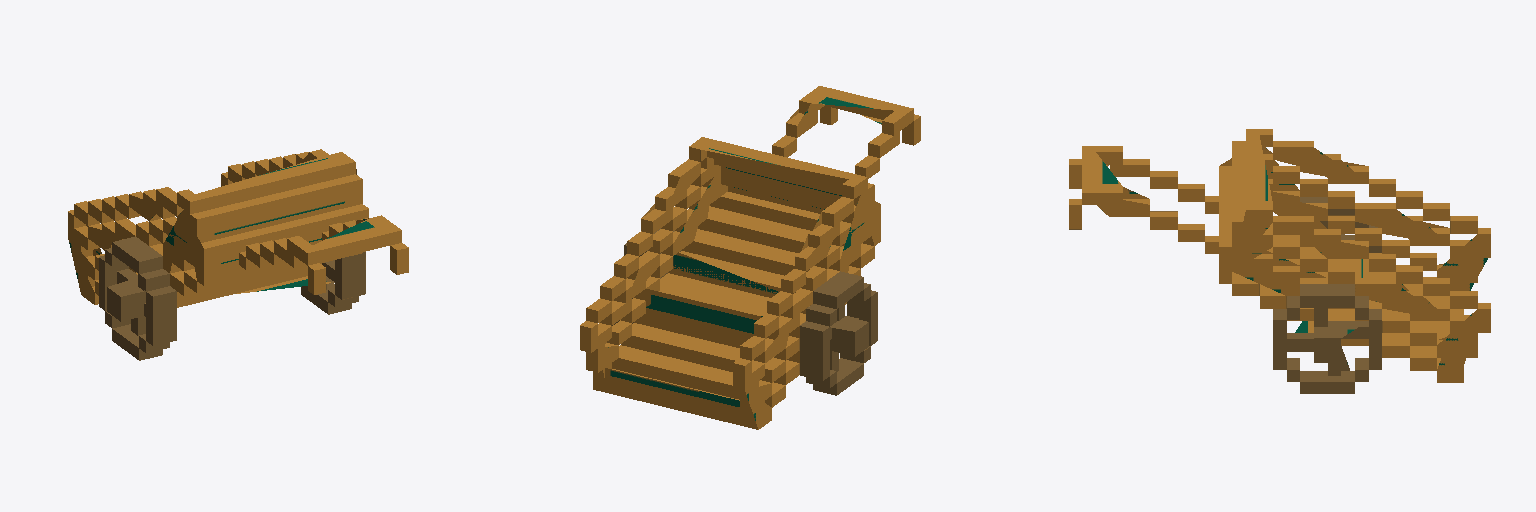
3 renders of one model, left to right at view 1: azimuth 30°, elevation 25°; view 2: azimuth 150°, elevation 25°; view 3: azimuth 270°, elevation 25°, orthographic.
Visible parts, largest first — view 1: Cart_Inclined_Medieval_Assets-9.001; view 2: Cart_Inclined_Medieval_Assets-9.001; view 3: Cart_Inclined_Medieval_Assets-9.001.
Part boxes in pixels (left/top/right/bottom): Cart_Inclined_Medieval_Assets-9.001: left=68, top=149, right=408, bottom=360; Cart_Inclined_Medieval_Assets-9.001: left=580, top=86, right=920, bottom=429; Cart_Inclined_Medieval_Assets-9.001: left=1069, top=129, right=1490, bottom=393.
Bounding box in the file's own units: 2 × 1.4 × 3.1.
Materials: 1 (1 with a texture image).